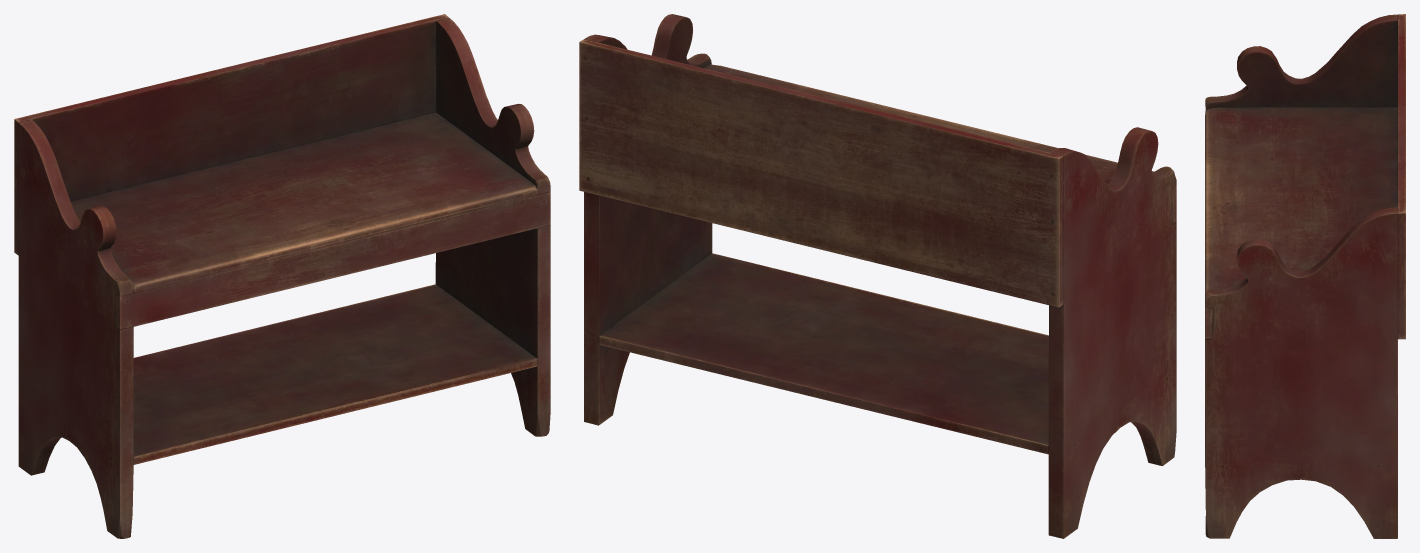
The model's file is painted_wooden_bench.glb.
3 renders of one model, left to right at view 1: azimuth 30°, elevation 25°; view 2: azimuth 150°, elevation 25°; view 3: azimuth 270°, elevation 25°, orthographic. The views are drawn at different scales.
Visible parts, largest first — view 1: painted_wooden_bench; view 2: painted_wooden_bench; view 3: painted_wooden_bench.
Boxes of the visible parts, box(x1,y1,x2,y2) form: painted_wooden_bench: box(14, 14, 550, 538); painted_wooden_bench: box(579, 14, 1176, 538); painted_wooden_bench: box(1205, 14, 1405, 538).
Size of the model in its own units: 1.16 by 0.8893 by 0.4965.
1 material, 1 textured.
